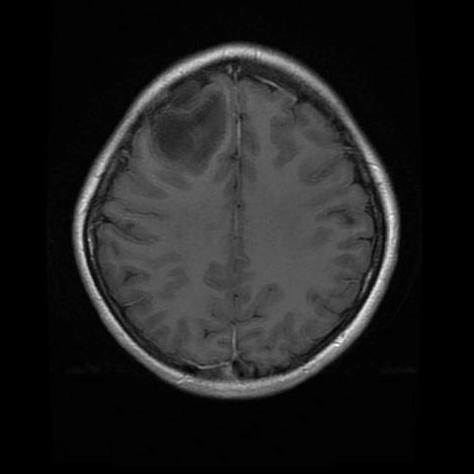Tumour-Glioma: (156, 94, 249, 191)
